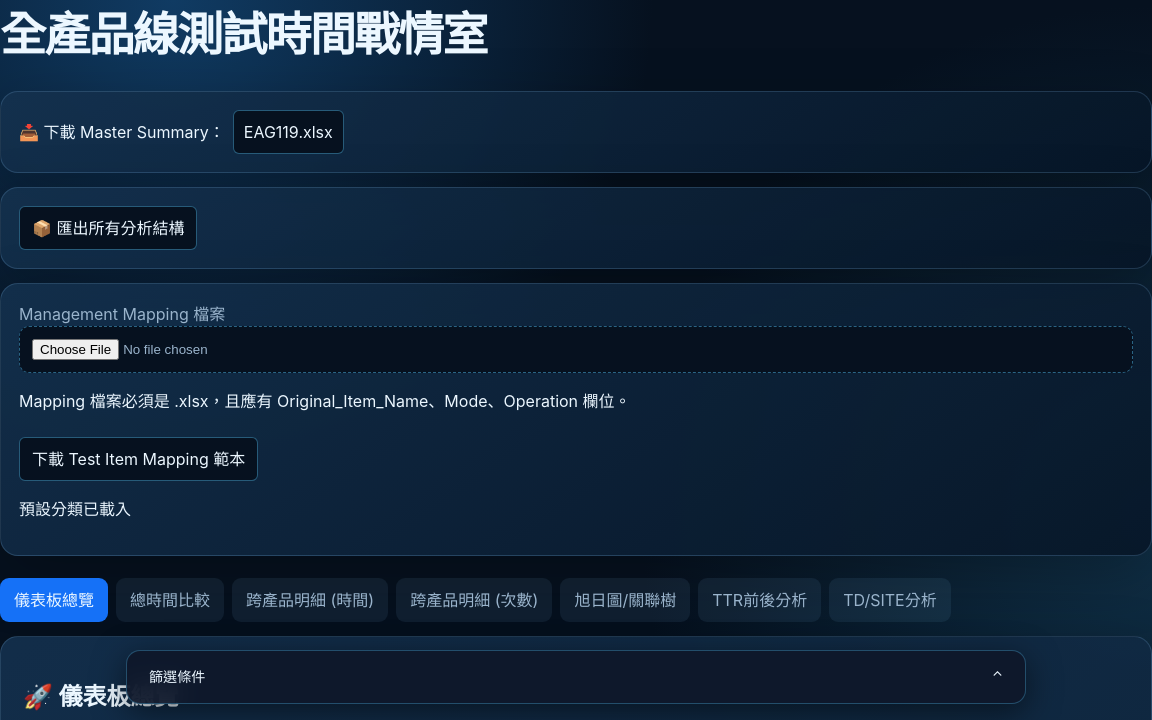
Test: DashboardPage › applies default Mapping Mode to TD analysis rows
Click the tab "TD/SITE分析" at x=890, y=600, box [829,578,951,622]
(page scrolled)
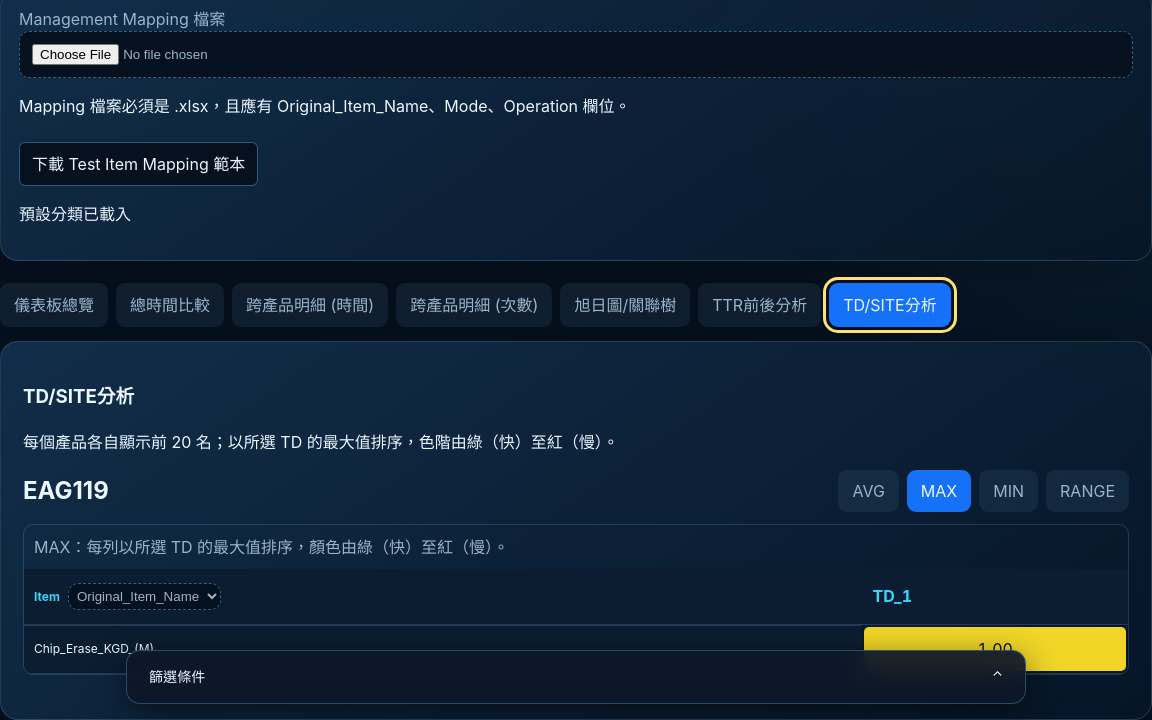
Select "Mode" in the dropdown named "Item 顯示欄位" at x=144, y=596, box [68,583,221,610]
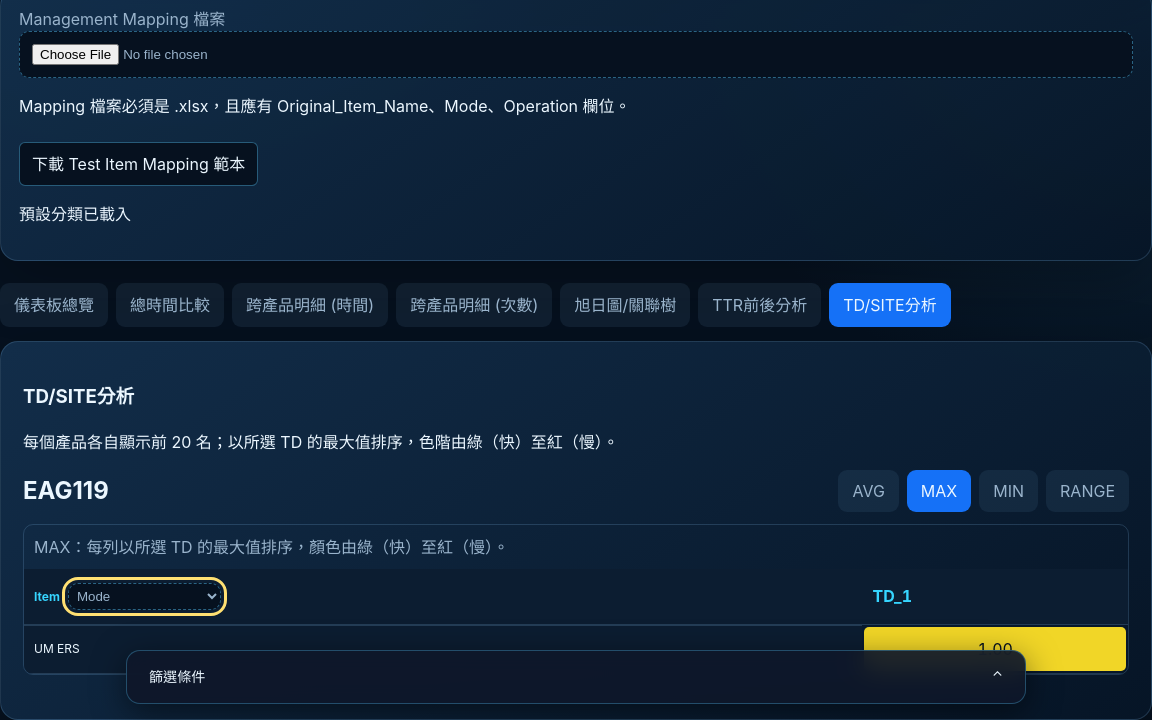
Check: the cell "UM ERS" is shown, box [24,625,862,674]
